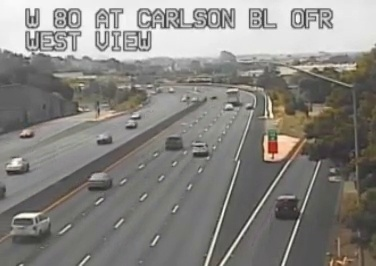car: (11, 212, 50, 236), (275, 196, 298, 218), (87, 173, 111, 189), (165, 135, 181, 149), (192, 142, 208, 155)
